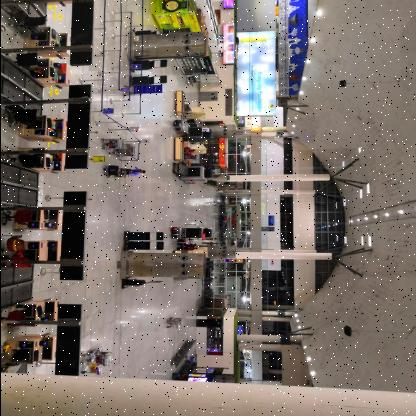airport-trolley: (80, 346, 115, 376), (102, 165, 128, 177)
